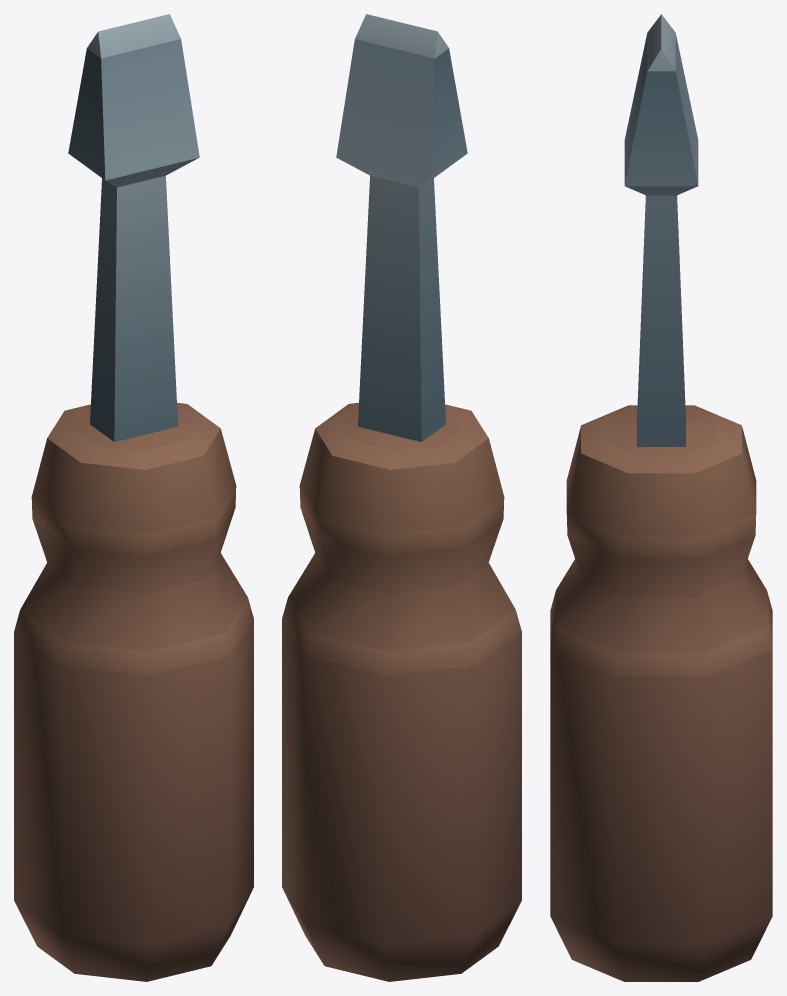
File: screwdriver_A_short.obj
The picture shows the model from 3 angles, left to right: view 1: azimuth 30°, elevation 25°; view 2: azimuth 150°, elevation 25°; view 3: azimuth 270°, elevation 25°; orthographic projection.
Visible parts, largest first — view 1: screwdriver_A_short; view 2: screwdriver_A_short; view 3: screwdriver_A_short.
Boxes of the visible parts, left/top/right/bottom form: screwdriver_A_short: left=14, top=14, right=253, bottom=981; screwdriver_A_short: left=282, top=14, right=521, bottom=981; screwdriver_A_short: left=550, top=14, right=772, bottom=981.
Bounding box in the file's own units: 0.1513 × 0.7034 × 0.1513.
1 material, 1 textured.
